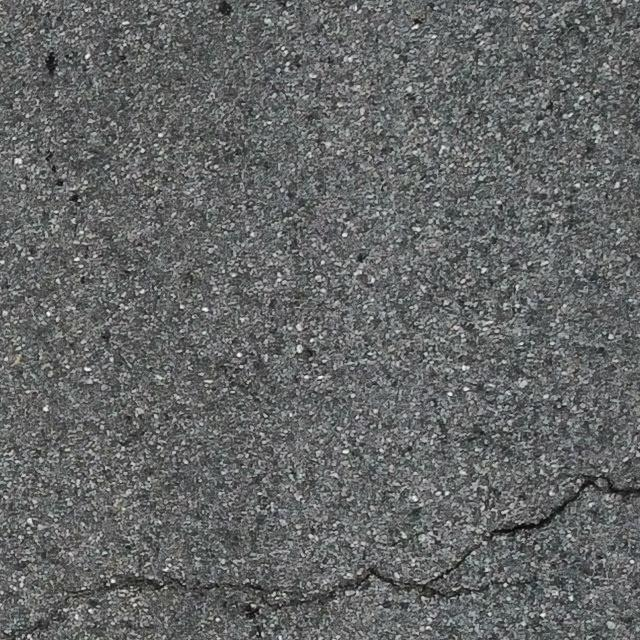TransverseCrack: (1, 474, 639, 639)
